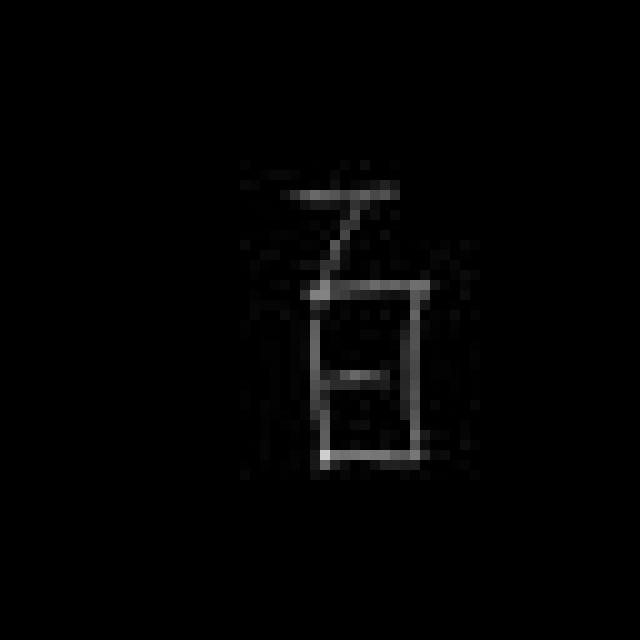100 -a hundred-: (263, 163, 437, 489)
